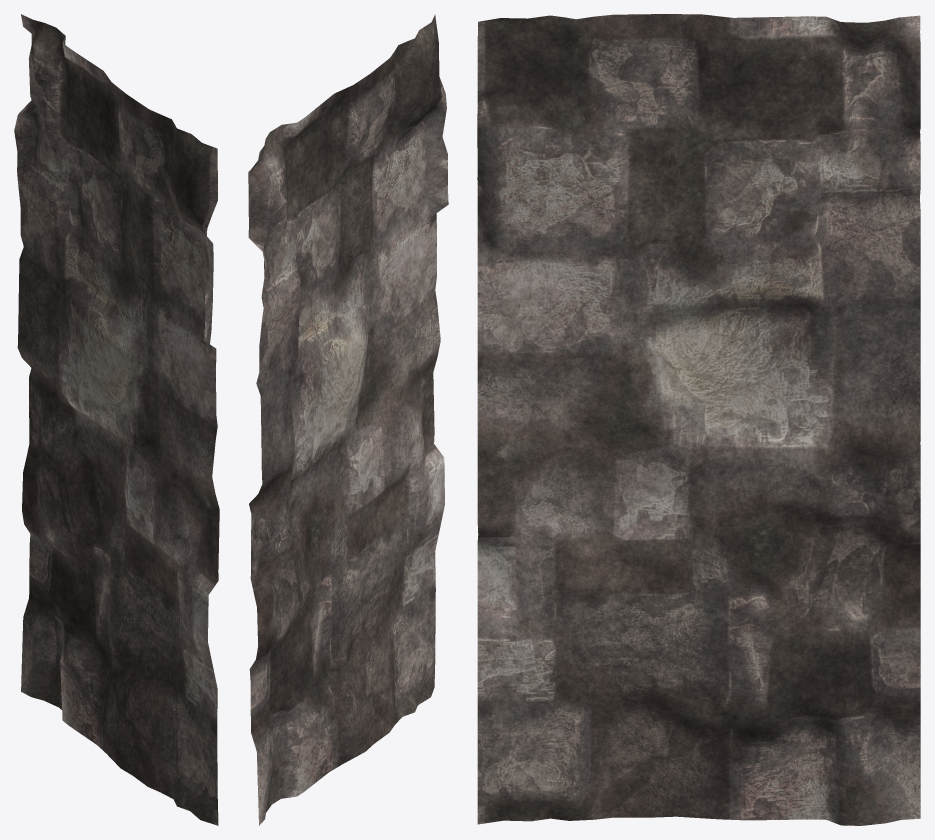
Rendered from SM_StoneWall_A_03.fbx.
3 renders of one model, left to right at view 1: azimuth 30°, elevation 25°; view 2: azimuth 150°, elevation 25°; view 3: azimuth 270°, elevation 25°, orthographic. The views are drawn at different scales.
Visible parts, largest first — view 1: SM_StoneWall_A_03_LOD0; view 2: SM_StoneWall_A_03_LOD0; view 3: SM_StoneWall_A_03_LOD0.
Boxes of the visible parts, <box> form: SM_StoneWall_A_03_LOD0: <box>14,14,219,825</box>; SM_StoneWall_A_03_LOD0: <box>248,14,448,825</box>; SM_StoneWall_A_03_LOD0: <box>477,14,920,825</box>.
Size of the model in its own units: 11.86 by 200 by 400.
